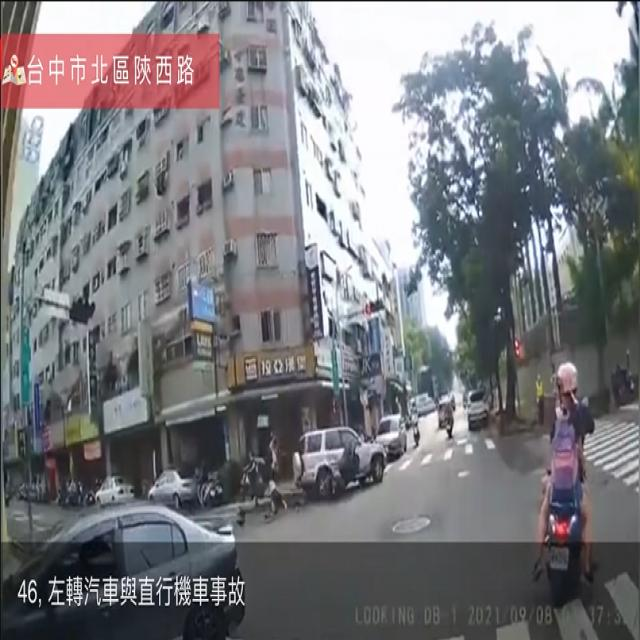accident: (246, 428, 389, 521), (304, 436, 371, 504)
